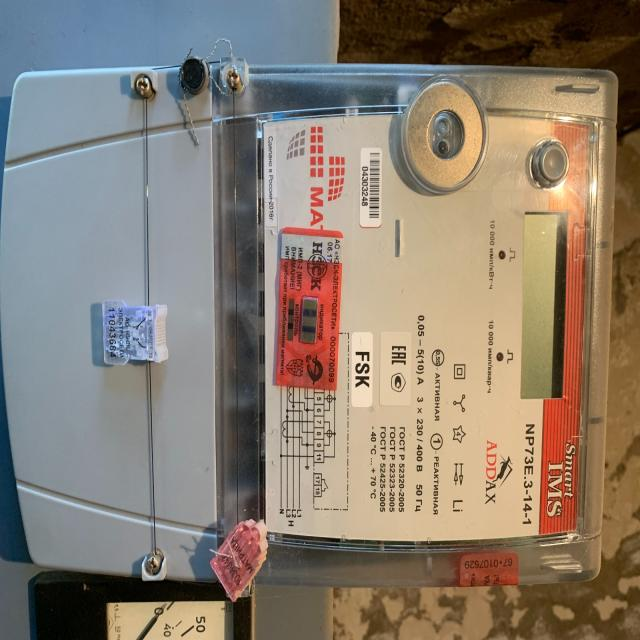Display: (519, 210, 561, 400)
meter_matrica: (56, 64, 627, 613)
meter_number: (358, 144, 386, 228)
seal_elso: (98, 298, 174, 372)
seal_imp: (275, 226, 341, 386)
